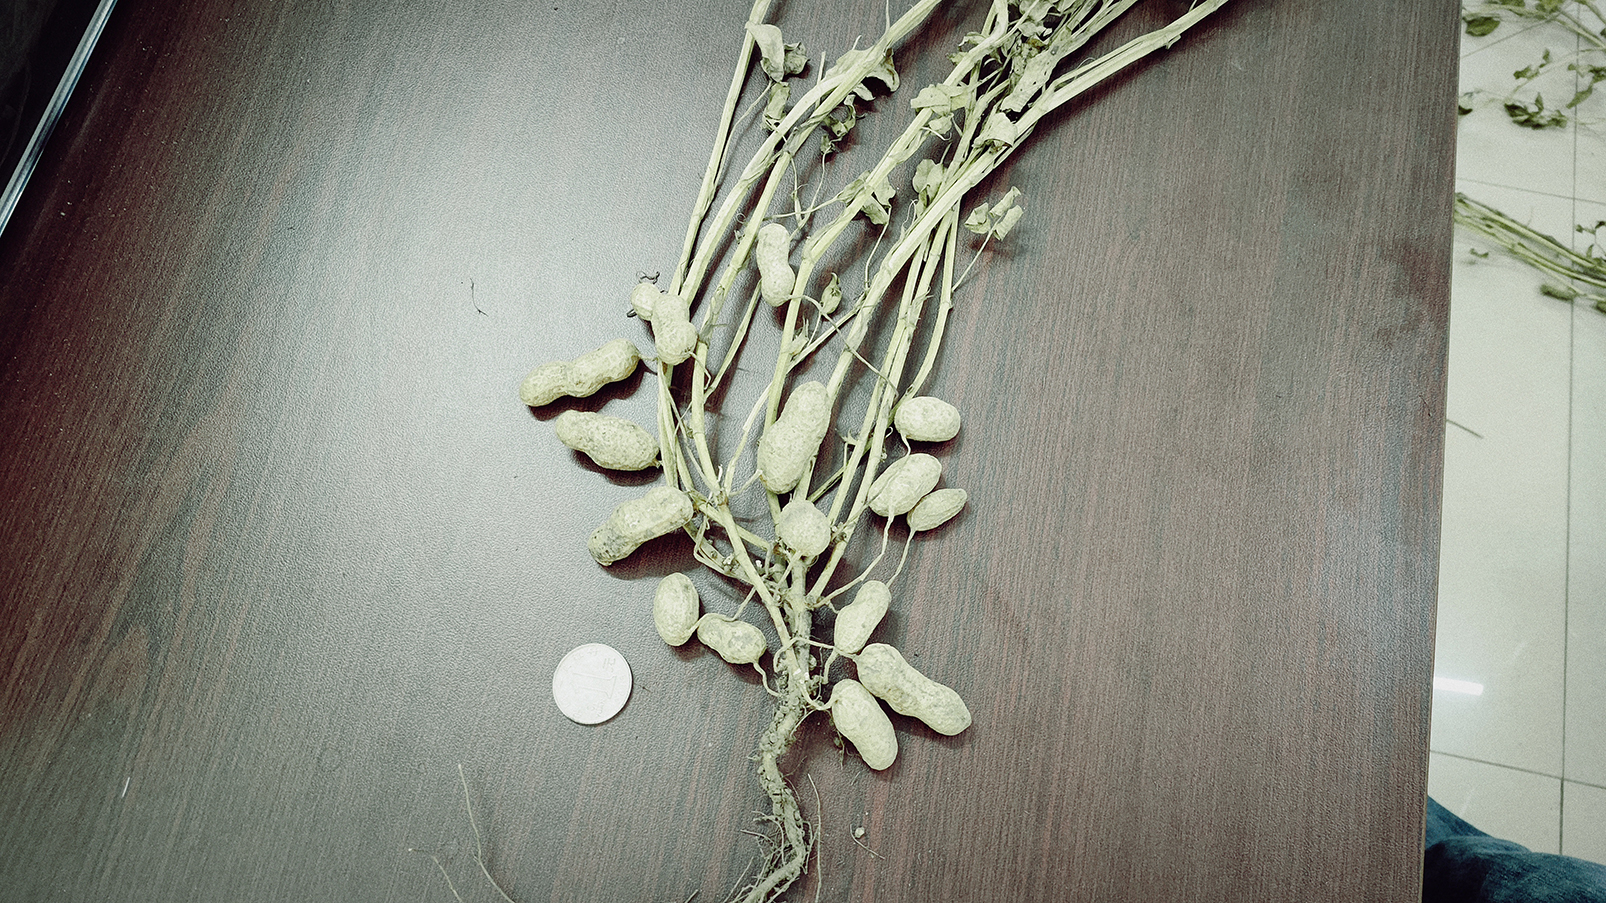h: (858, 642, 973, 737), (754, 380, 831, 493), (588, 486, 694, 566), (522, 341, 640, 409), (555, 408, 660, 472), (832, 679, 898, 768), (629, 283, 698, 364), (864, 452, 943, 516), (833, 580, 892, 653), (698, 614, 767, 666), (652, 573, 698, 647), (754, 222, 794, 305), (893, 396, 961, 442), (777, 498, 831, 556), (906, 487, 968, 533)
